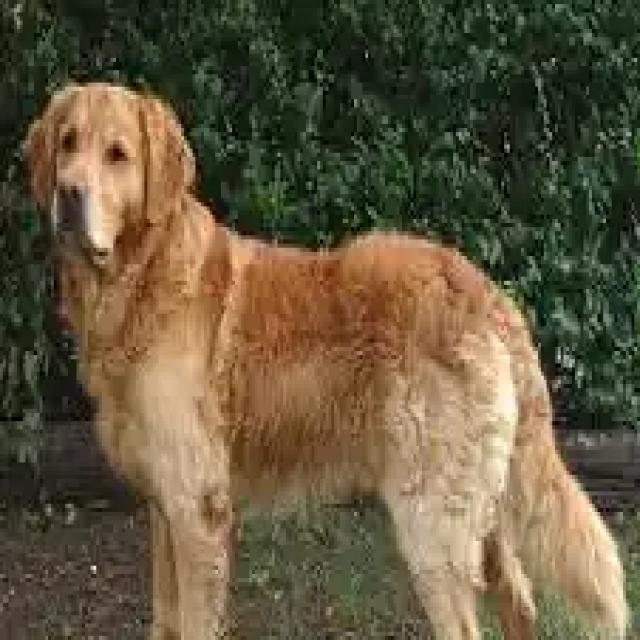dog: (18, 83, 630, 640)
